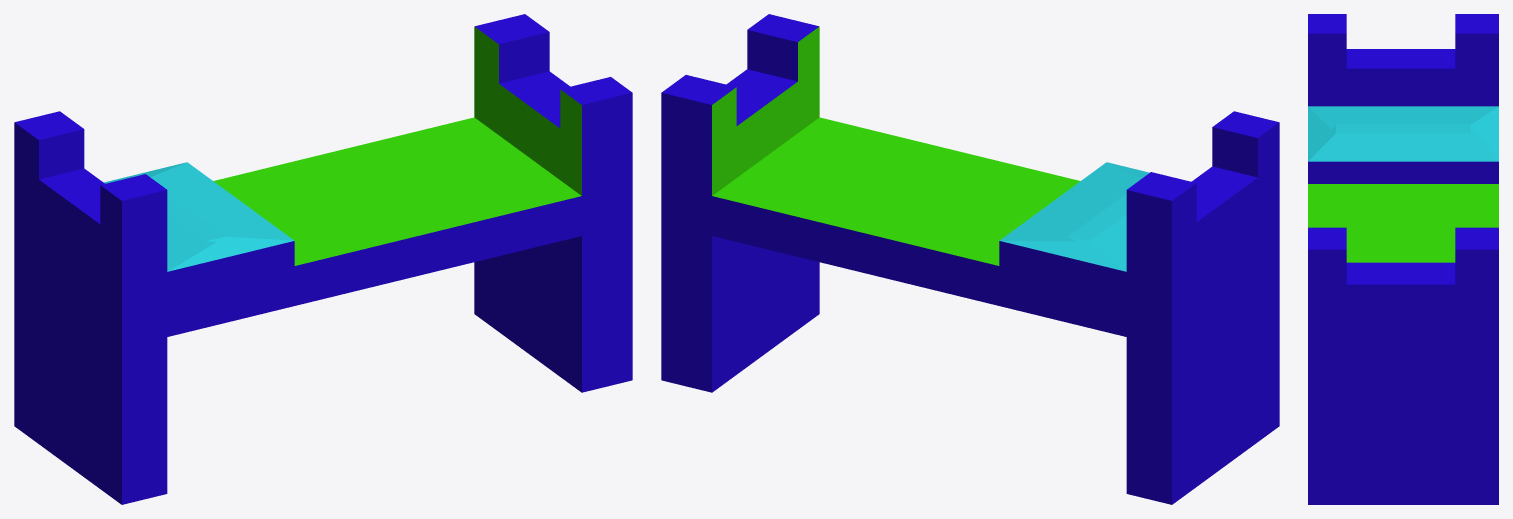
Rendered from BED.fbx.
3 views of the same model, side by side, from view 1: azimuth 30°, elevation 25°; view 2: azimuth 150°, elevation 25°; view 3: azimuth 270°, elevation 25° (orthographic). The views are drawn at different scales.
Parts seen in each view (by area): view 1: Cube; view 2: Cube; view 3: Cube.
Part boxes in pixels (x1,y1,x2,y2): Cube: [14, 14, 632, 504]; Cube: [661, 14, 1279, 504]; Cube: [1308, 14, 1498, 504].
Size of the model in its own units: 575 by 327 by 210.
